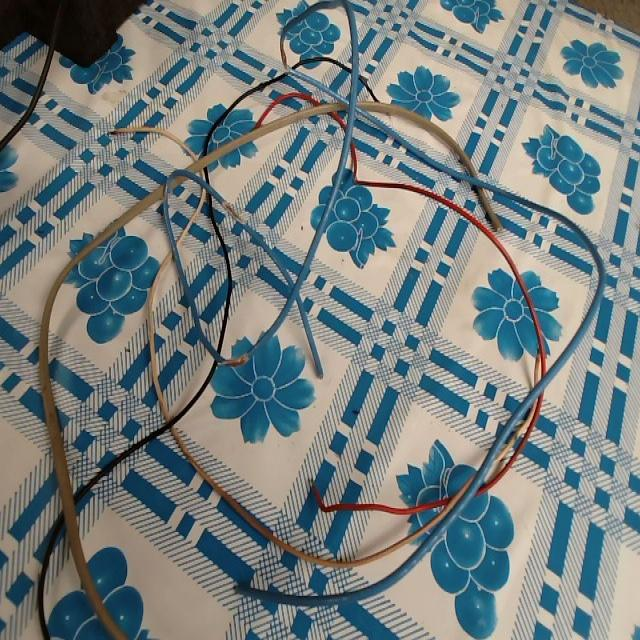-: (217, 196, 248, 233), (214, 349, 253, 368), (276, 36, 295, 72)
